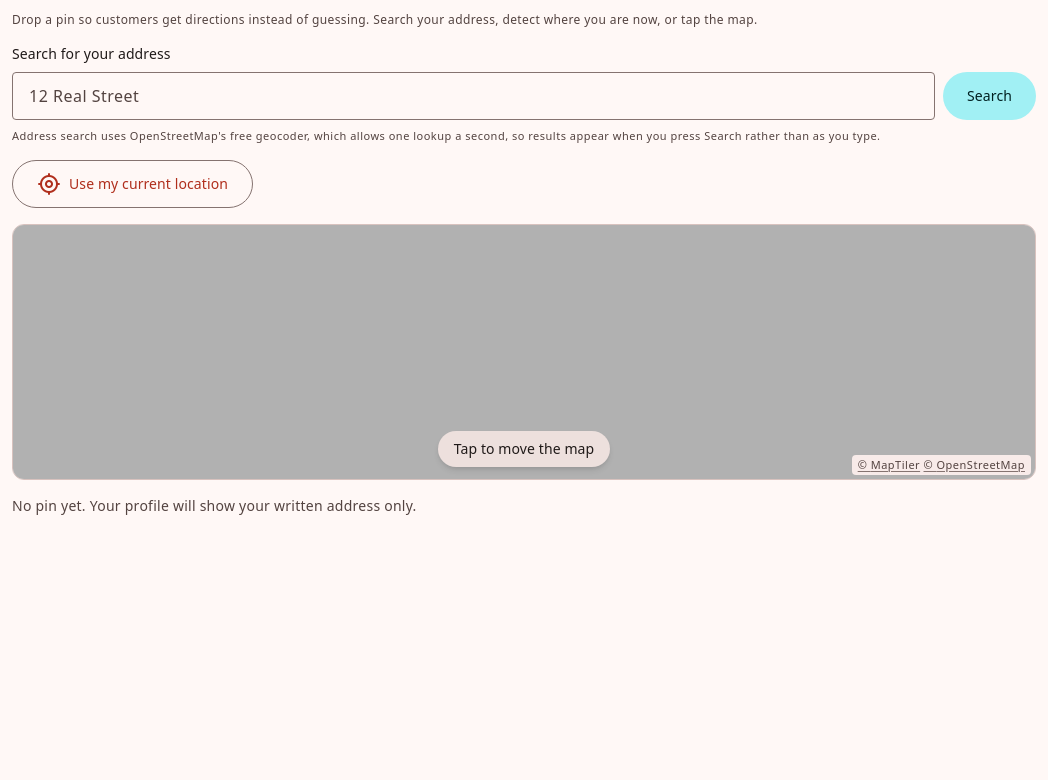
auto-detect › explains error code 1 and names the way out
What coordinates should you click on to do the following:
click the button "Use my current location"
I would click on:
 (132, 184)
Its box is x1=12 y1=160 x2=253 y2=208.
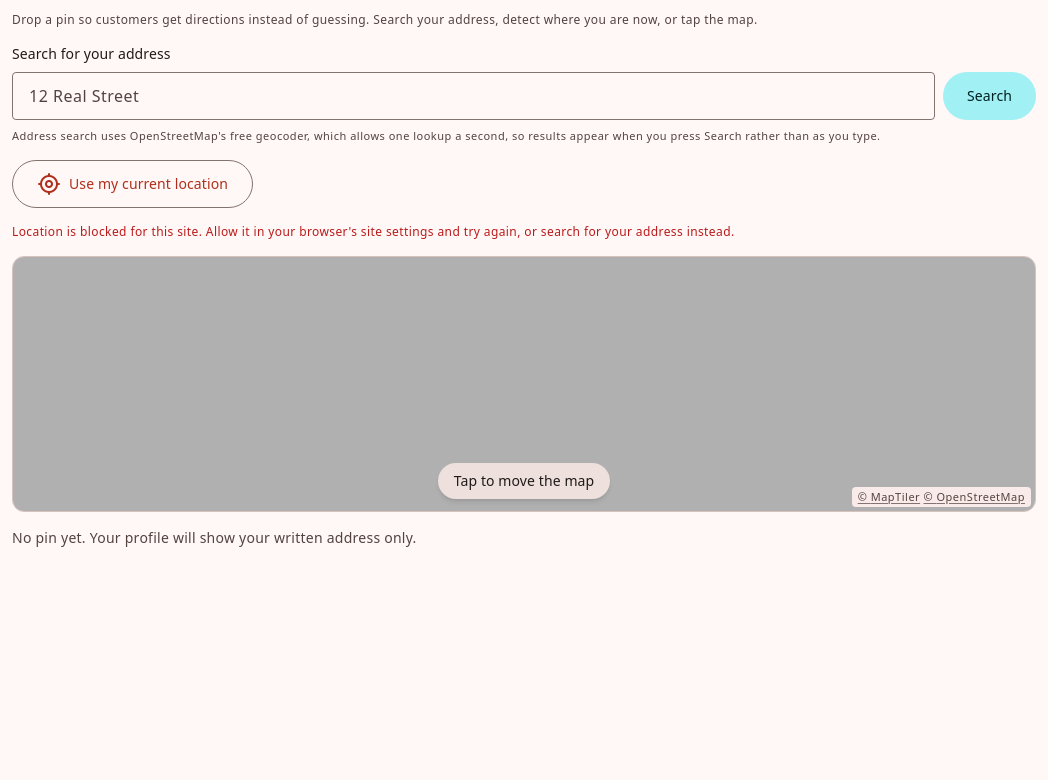
Check: the message shows "blocked", box x1=12 y1=223 x2=734 y2=240
Check: the message shows "search for your address", box x1=12 y1=223 x2=734 y2=240
